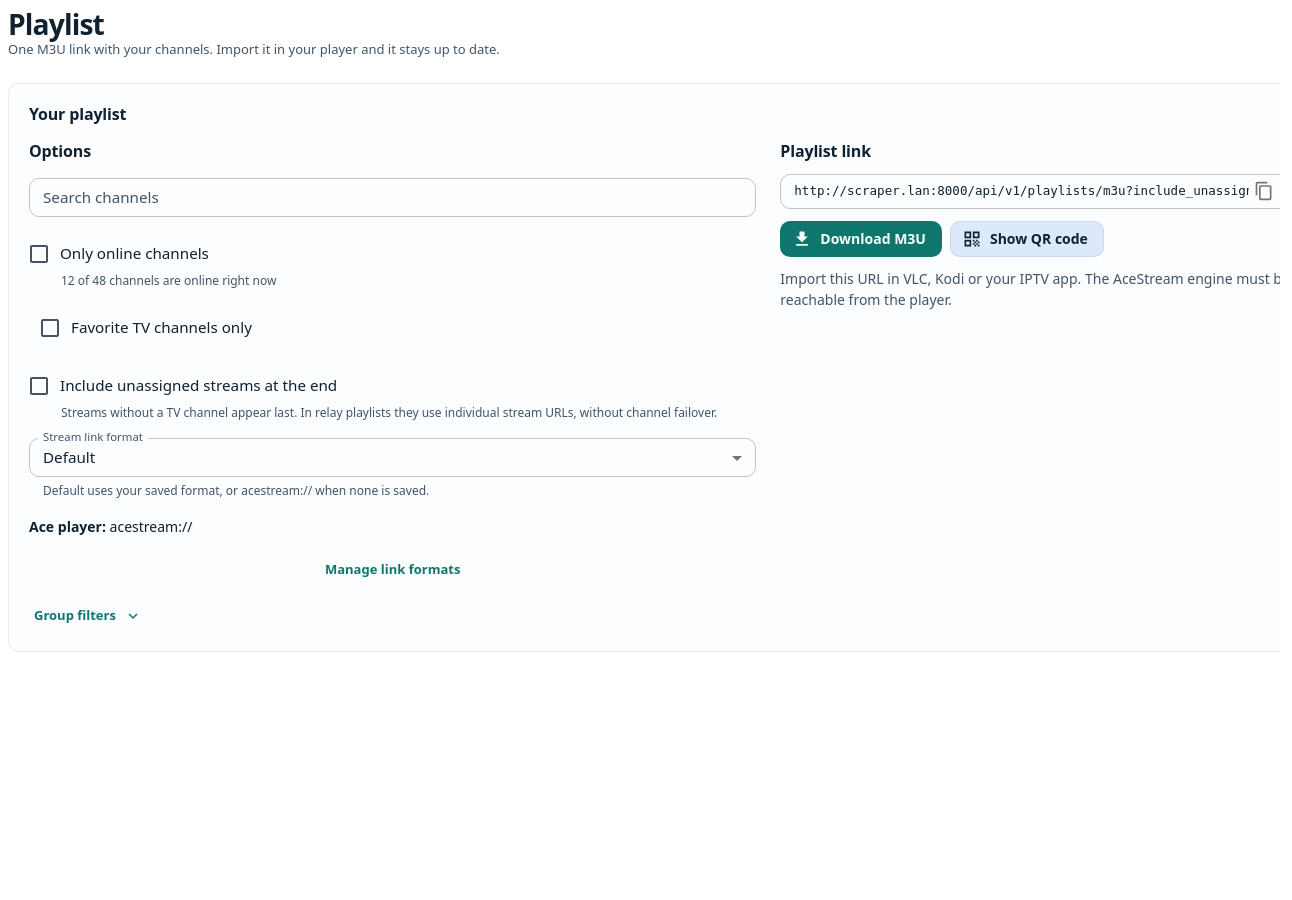
Test: Playlist page › keeps group filters collapsed until asked
This screenshot has width=1292, height=900.
Expected: the field labelled "Include groups" is not shown
Click the button "Group filters": (87,616) [29,600,145,631]
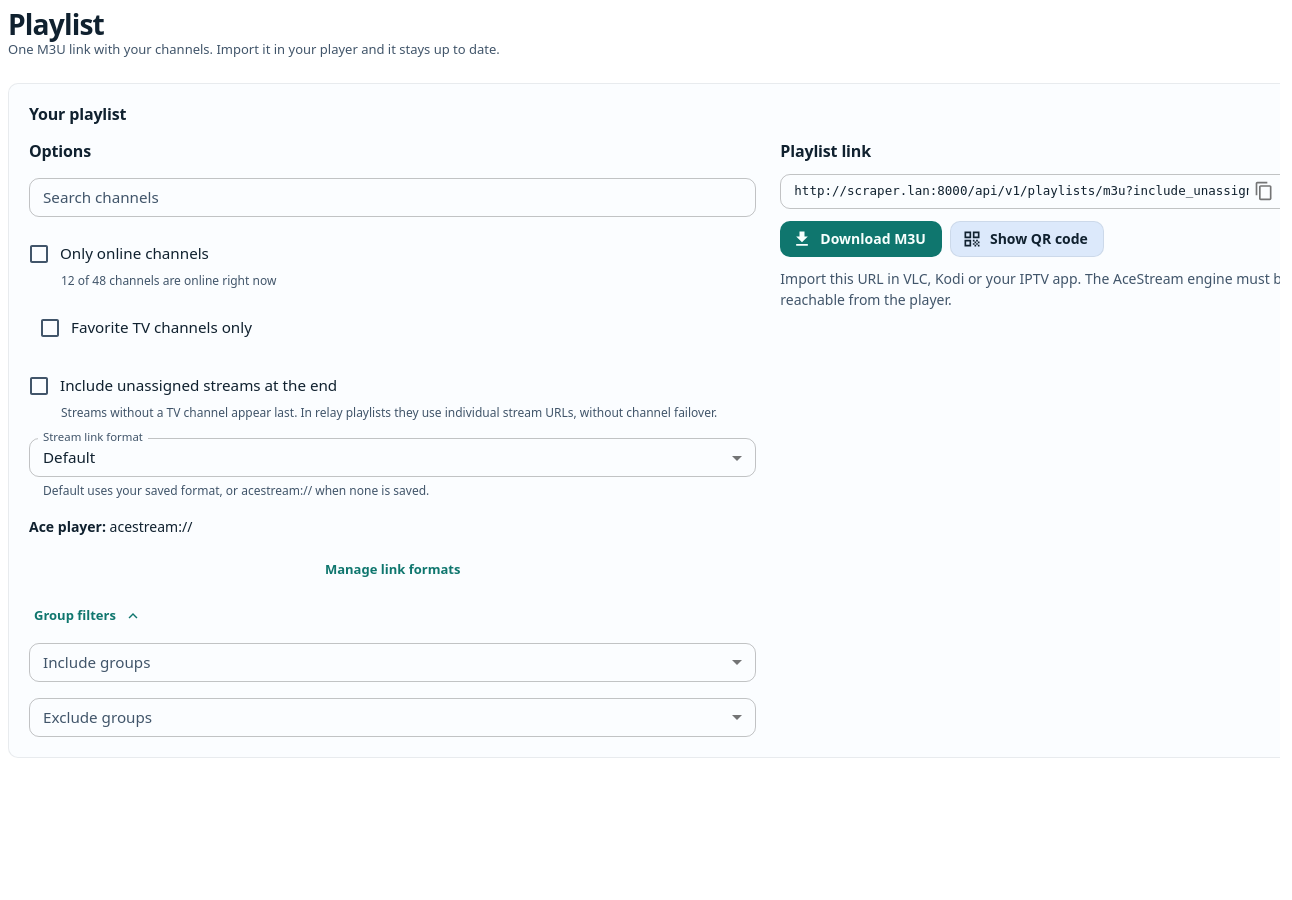
Expected: the dropdown named "Include groups" next to "Include groups" is shown, [29,643,756,682]
Expected: the dropdown named "Exclude groups" next to "Exclude groups" is shown, [29,698,756,737]
